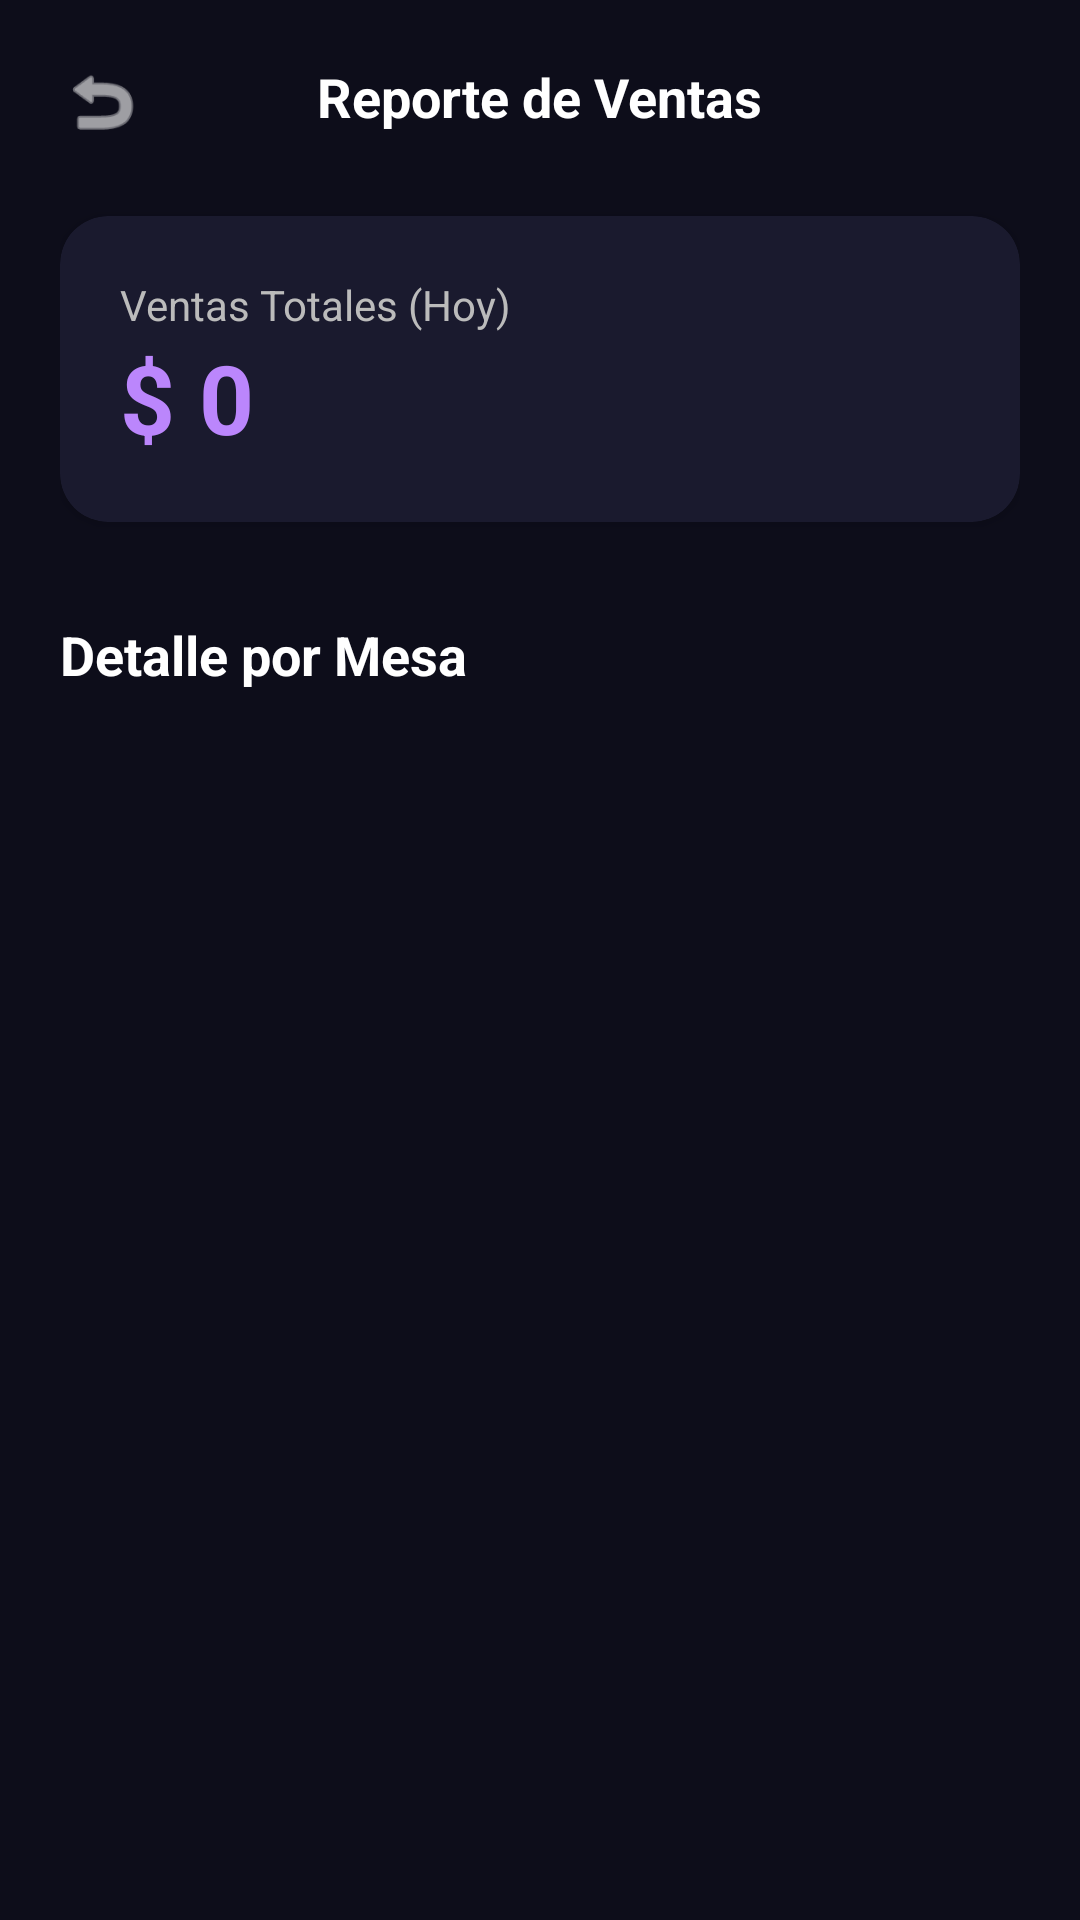

Named icons in this screenshot (1080 x 1920) and their bounding boxes, (x1, y1, x2, y2):
revert: (73, 75, 134, 130)
